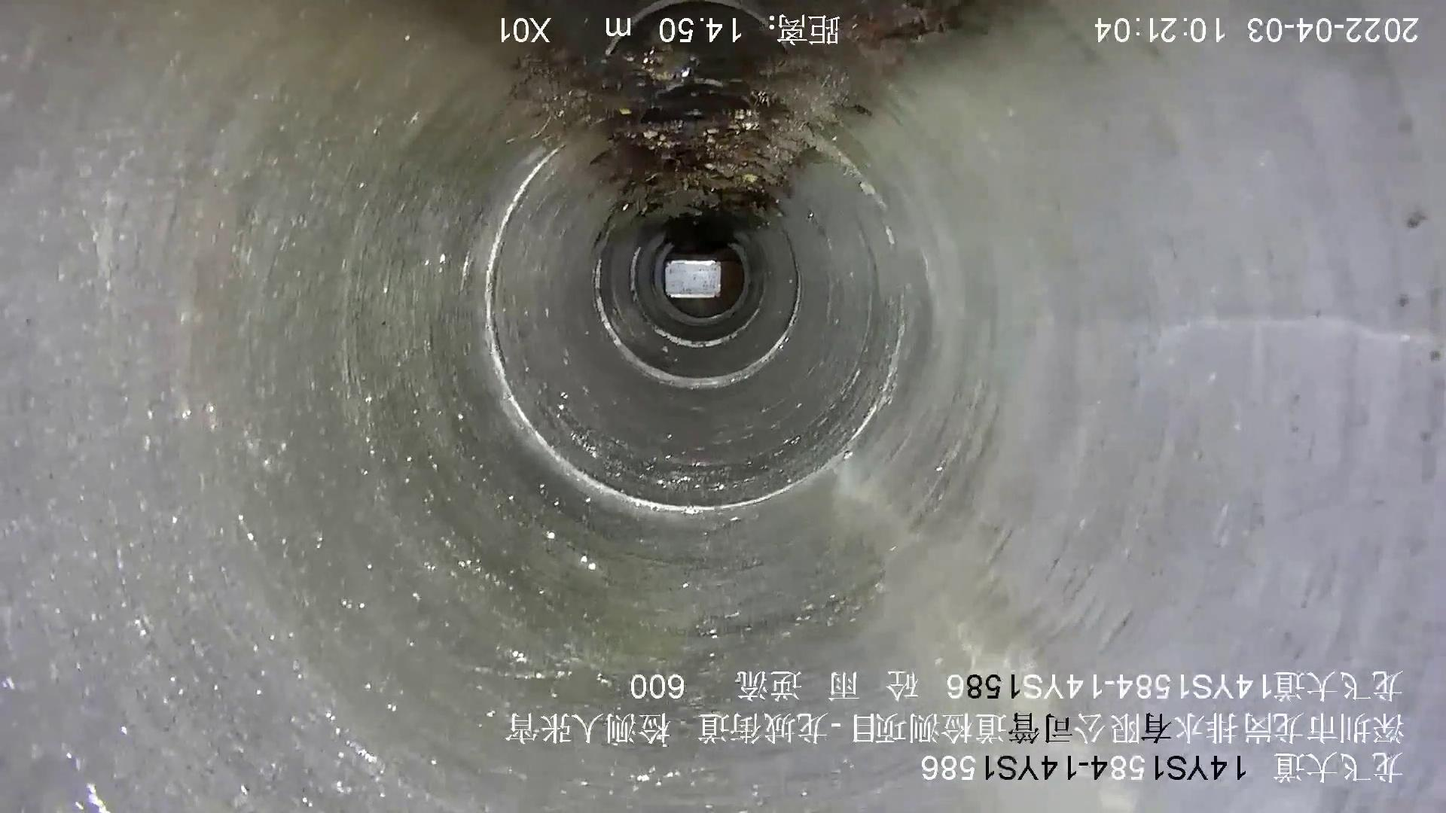CJ: (521, 1, 968, 249)
CKTJ: (484, 153, 810, 515), (592, 231, 803, 388), (628, 245, 767, 349), (811, 346, 896, 476)
